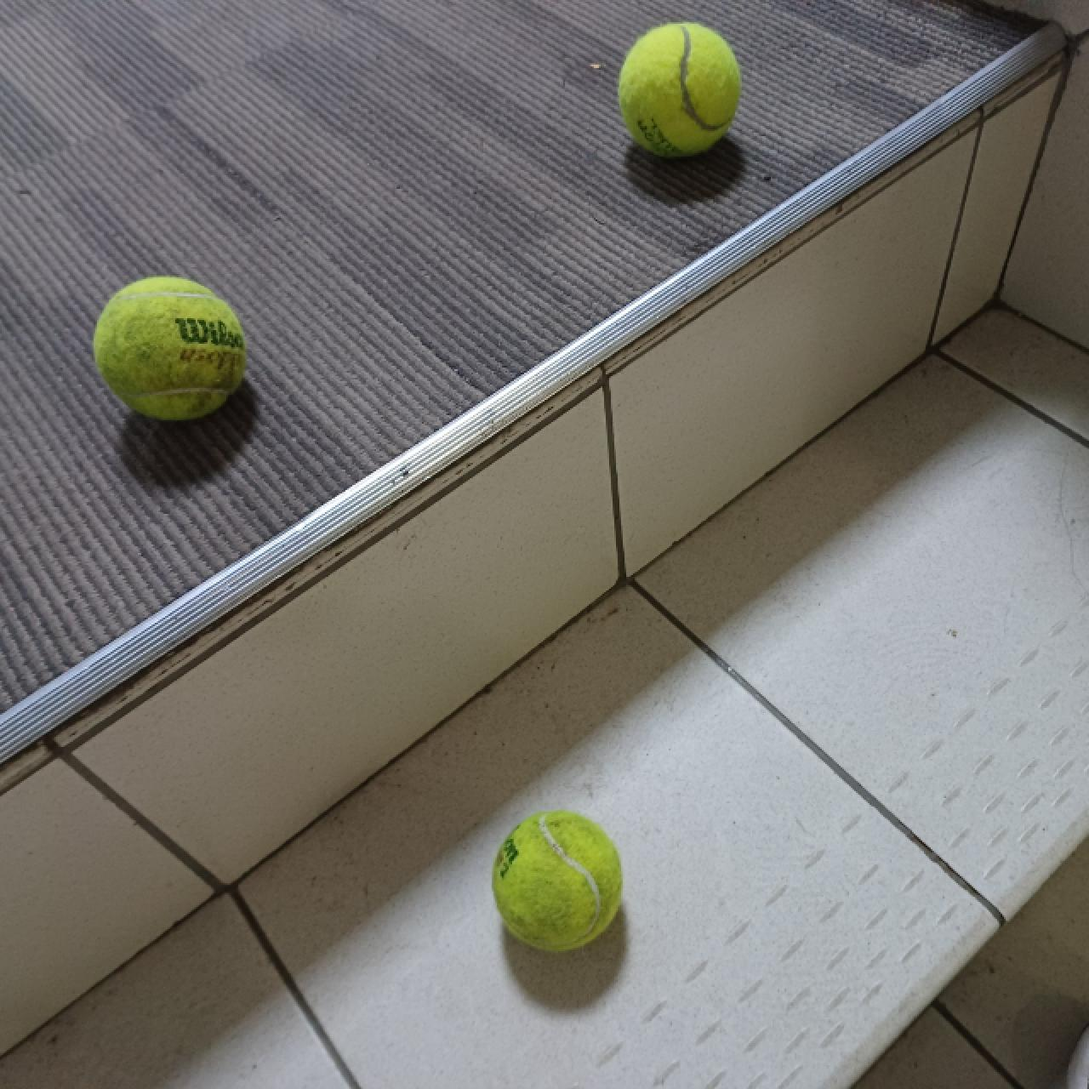tennis-ball: (94, 275, 248, 419), (492, 810, 623, 948), (616, 19, 742, 159)
